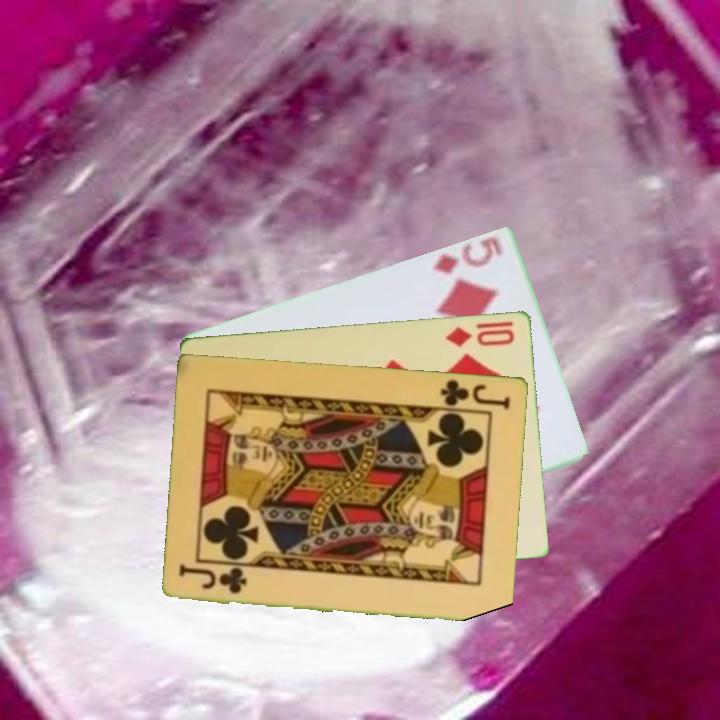10d: (442, 323, 518, 349)
5d: (430, 232, 505, 276)
Jc: (437, 375, 514, 412), (175, 562, 250, 596)
